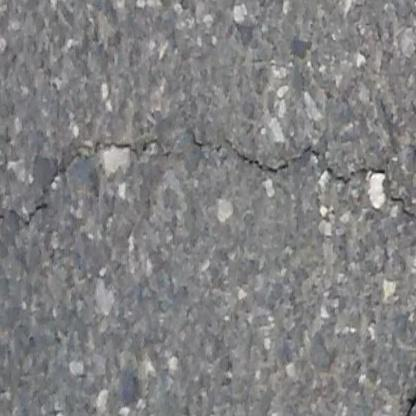Cracks: (183, 125, 416, 225), (0, 135, 177, 231), (394, 326, 416, 416)
